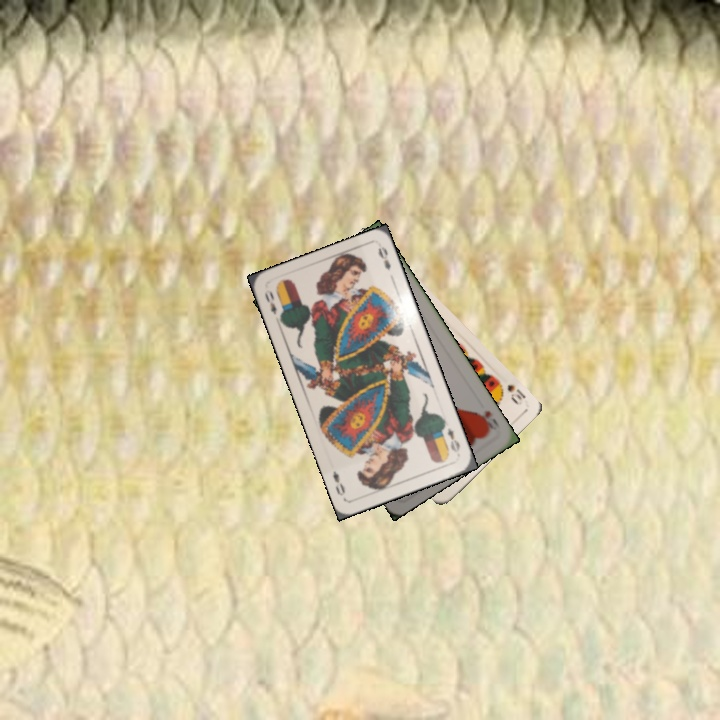EO: (443, 424, 463, 455), (260, 286, 279, 317)
HO: (472, 406, 502, 434)
S10: (503, 381, 528, 408)
